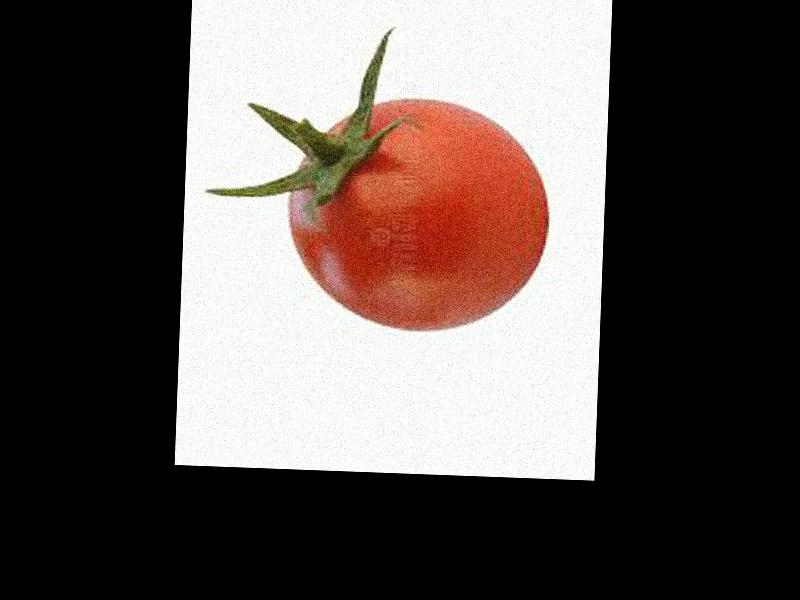Tomato: (285, 96, 553, 336)
